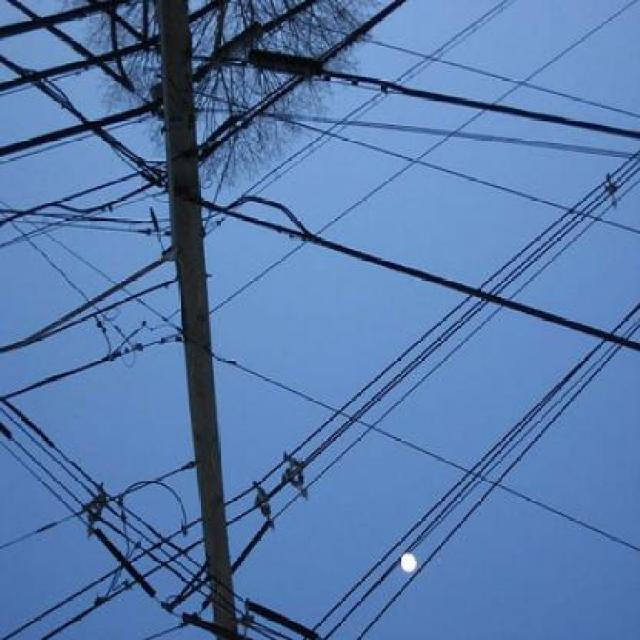pole: (140, 4, 251, 640)
